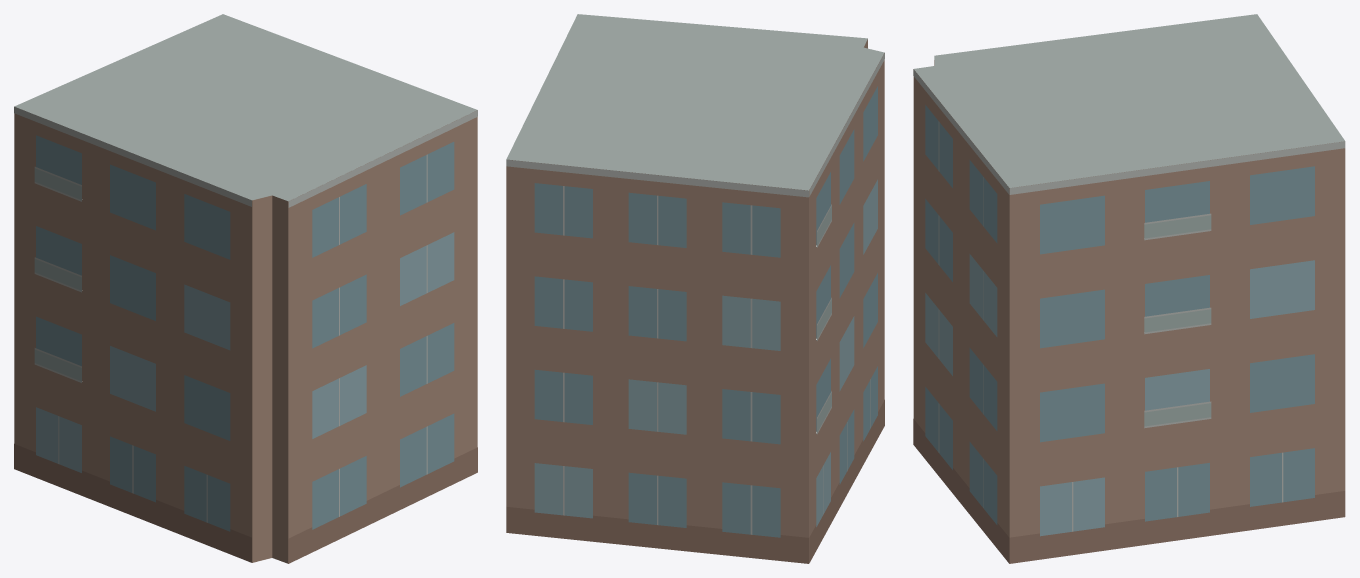
Rendered from survey-upis-32622923.glb.
3 renders of one model, left to right at view 1: azimuth 30°, elevation 25°; view 2: azimuth 150°, elevation 25°; view 3: azimuth 270°, elevation 25°, orthographic. The views are drawn at different scales.
Visible parts, largest first — view 1: survey-upis-32622923.tmp; view 2: survey-upis-32622923.tmp; view 3: survey-upis-32622923.tmp.
Part boxes in pixels (x1=…): survey-upis-32622923.tmp: x1=14, y1=14, x2=477, y2=563; survey-upis-32622923.tmp: x1=506, y1=14, x2=884, y2=563; survey-upis-32622923.tmp: x1=913, y1=14, x2=1345, y2=563.
Size of the model in its own units: 13.12 by 13.2 by 13.76.
